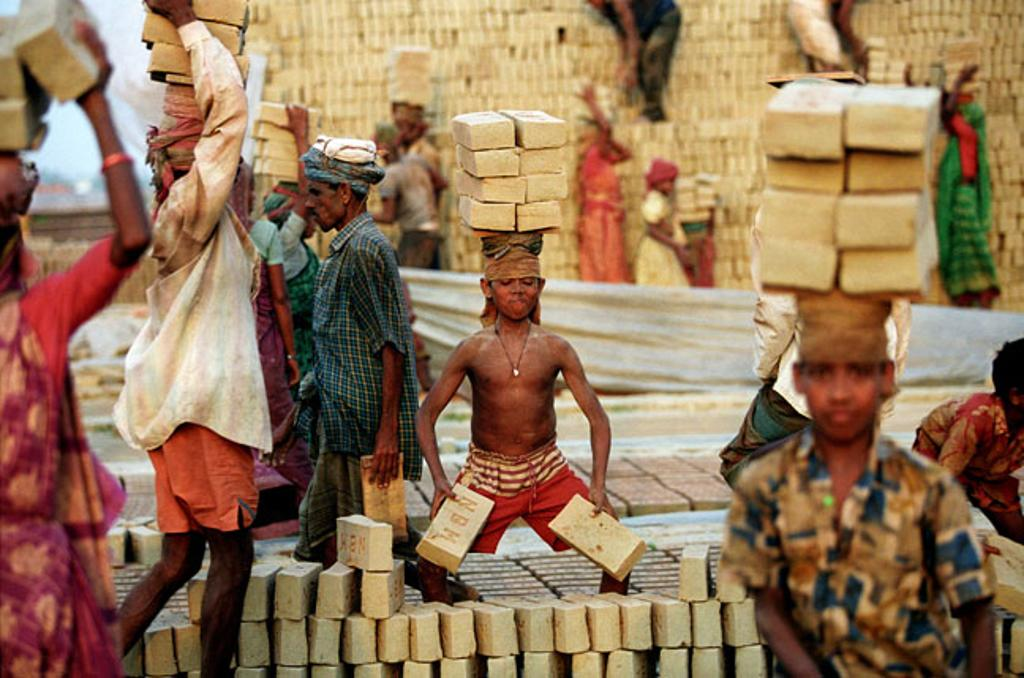face: (803, 361, 879, 439), (491, 273, 538, 318), (305, 178, 339, 232)
